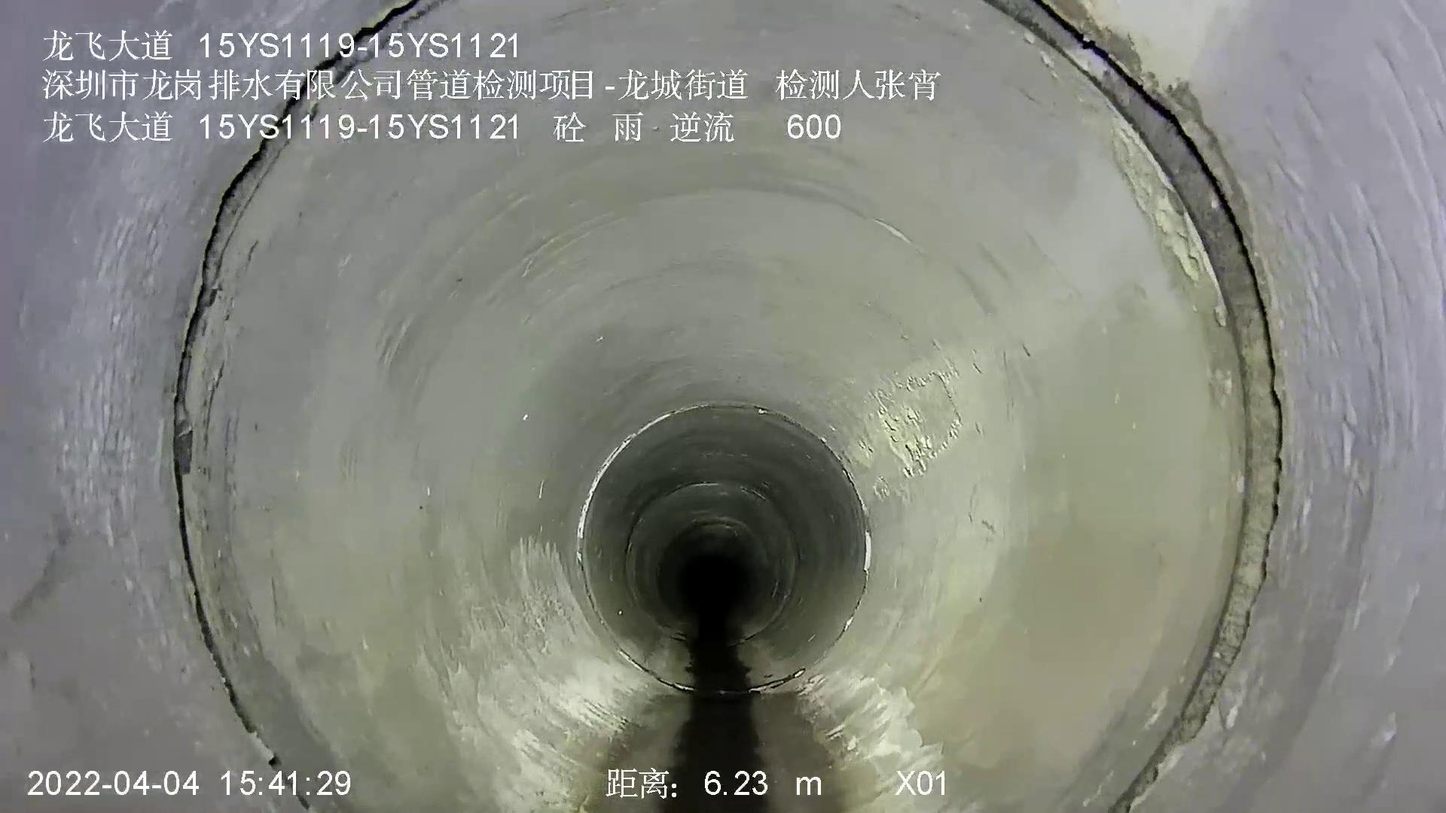CKTJ: (984, 0, 1282, 812), (172, 0, 445, 731)
